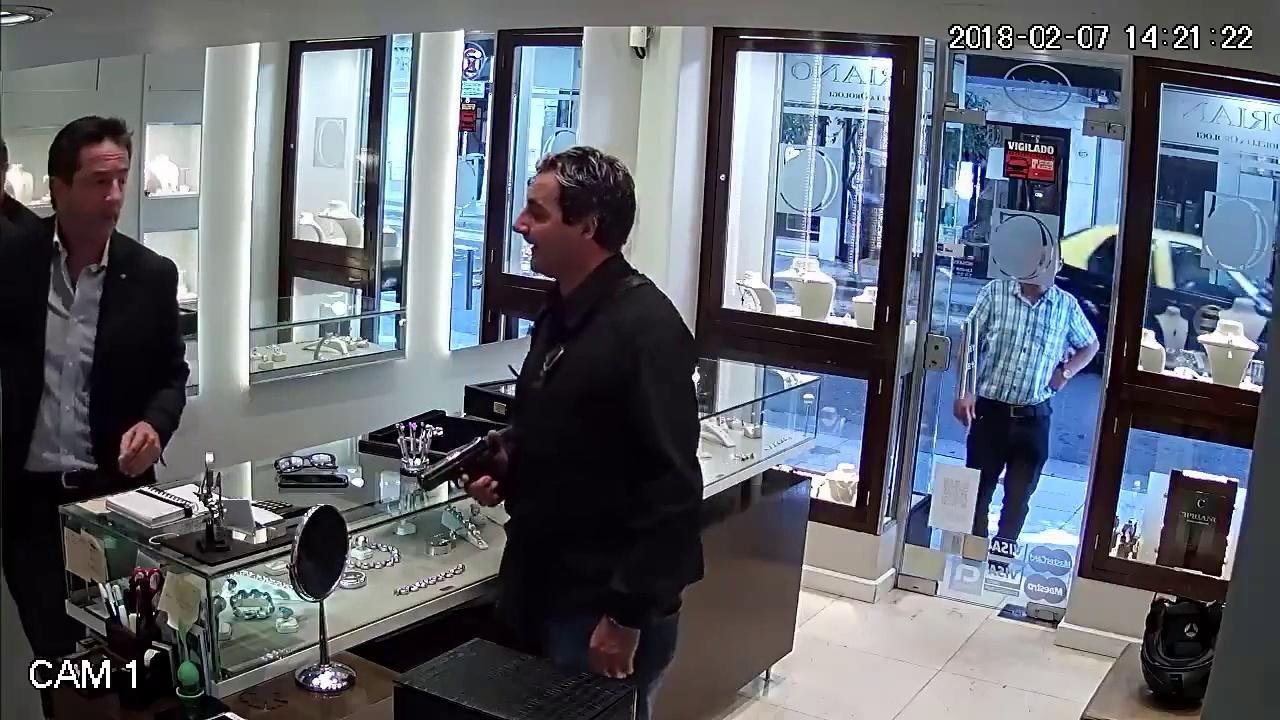Guns: (411, 413, 512, 518)
